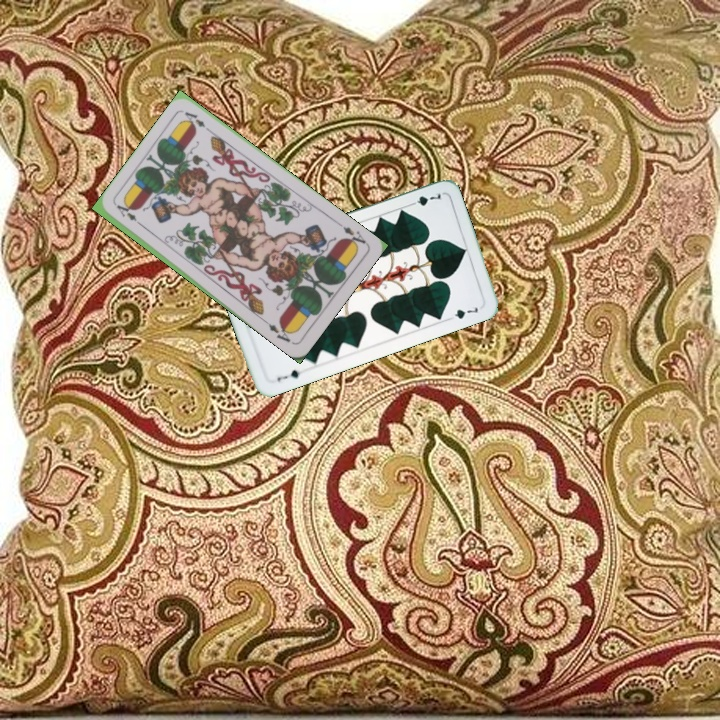EA: (334, 218, 369, 250), (112, 201, 147, 230)
G7: (405, 189, 445, 209), (273, 365, 307, 384)
